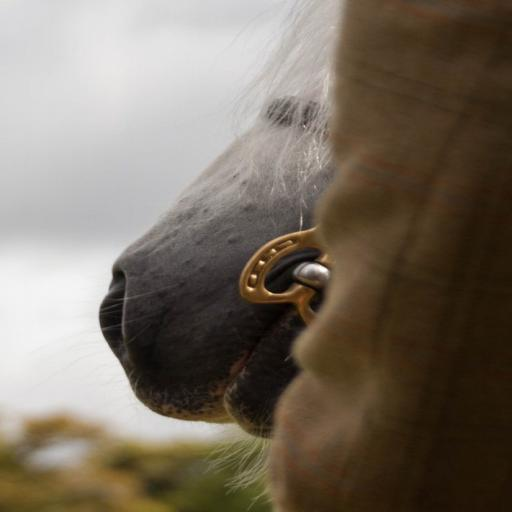horse: (86, 6, 328, 512)
